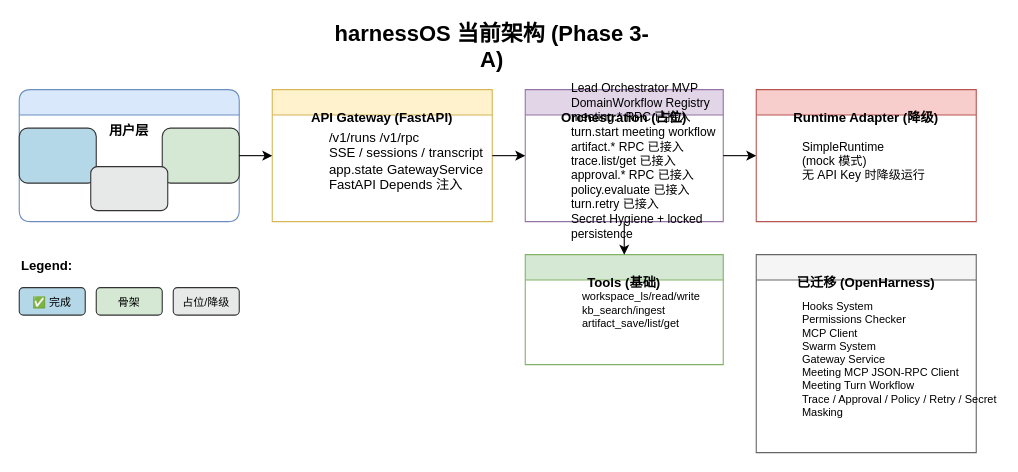
Image size: 1018x472. Some labels were removed from this diagram. The shapes that lost their labels are listed below. From the top down, each one's centre as x and y in pixels, then its label:
At point 57,155: "CLI (Phase 0 完成)".
At point 200,155: "Web (骨架)".
At point 129,188: "API (骨架)".
